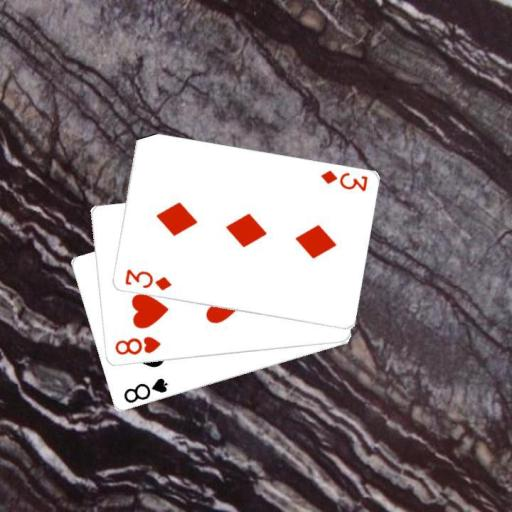3D: (317, 167, 369, 194), (121, 266, 173, 292)
8H: (112, 333, 162, 357)
8S: (120, 375, 169, 405)
